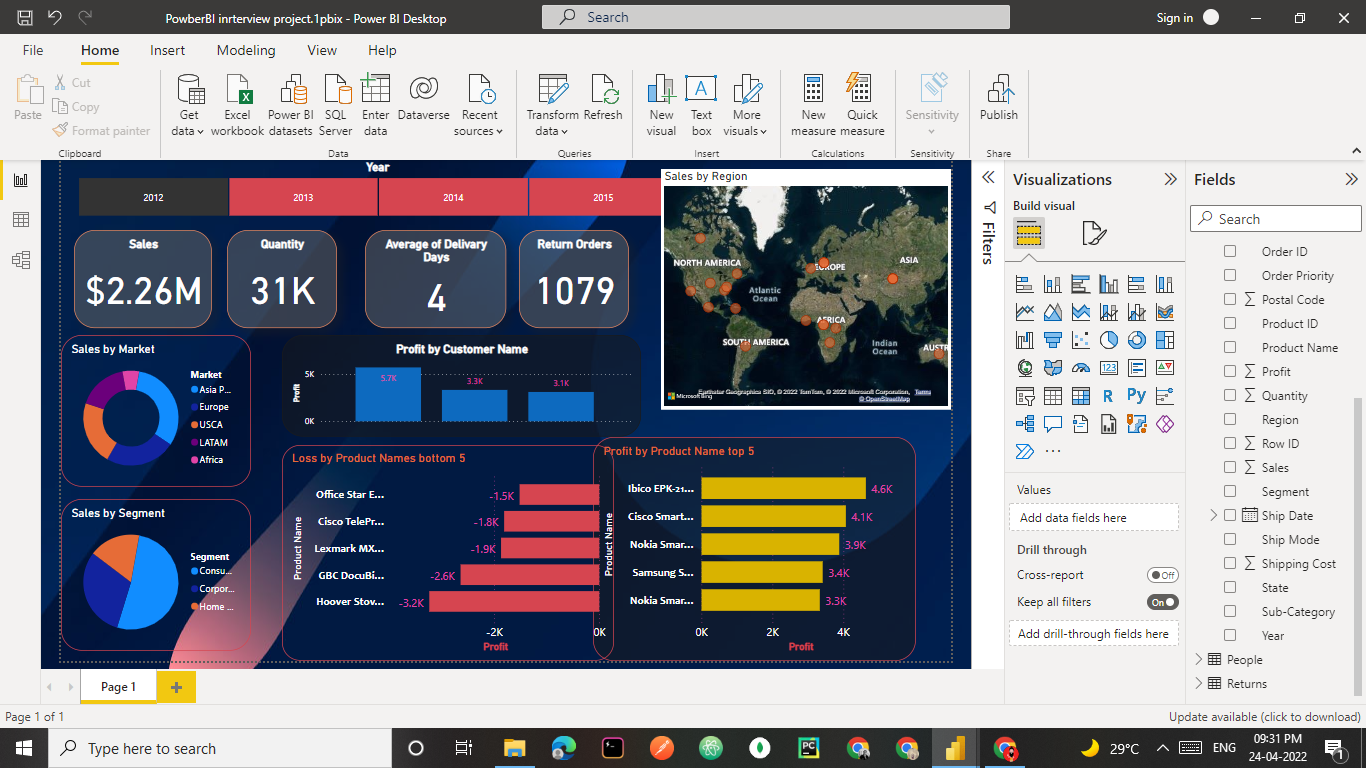

Layout of this report page (visuals, bound fields, positions):
{"tool":"powerbi","page":{"name":"Page 1","canvas":[1280,720],"ordinal":0},"visuals":[{"type":"card","title":"Sales","fields":{"Values":["Sum(Orders.Sales)"]},"box":[18.5,100.8,198.2,141.1],"z":0},{"type":"card","title":"Quantity","fields":{"Values":["Sum(Orders.Quantity)"]},"box":[238.5,100.8,157.9,141.1],"z":1000},{"type":"card","title":"Average of Delivary Days","fields":{"Values":["Avg(Orders.Delivary Days)"]},"box":[436.7,100.8,203.3,141.1],"z":2000},{"type":"slicer","title":"Year","fields":{"Values":["Orders.Year"]},"box":[0,0,862.3,87.7],"z":3000},{"type":"card","title":"Return Orders","fields":{"Values":["Sum(Returns.Return Orders)"]},"box":[658.5,100.8,157.9,141.1],"z":4000},{"type":"map","fields":{"Size":["Sum(Orders.Sales)"],"Category":["Returns.Region"]},"box":[861.7,13.4,418.3,346],"z":5000},{"type":"clusteredBarChart","title":"Profit by Product Name top 5","fields":{"Category":["Orders.Product Name"],"Y":["Sum(Orders.Profit)"]},"box":[764.6,398.1,464.2,321.9],"z":6000},{"type":"clusteredBarChart","title":"Loss by Product Names bottom 5","fields":{"Category":["Orders.Product Name"],"Y":["Sum(Orders.Profit)"]},"box":[317.6,409.6,477.1,310.4],"z":7000},{"type":"pieChart","fields":{"Category":["Orders.Segment"],"Y":["Sum(Orders.Sales)"]},"box":[0,487.2,273.1,218.4],"z":8000},{"type":"donutChart","fields":{"Category":["Orders.Market"],"Y":["Sum(Orders.Sales)"]},"box":[0,251.5,273.1,218.4],"z":9000},{"type":"columnChart","fields":{"Category":["Orders.Customer Name"],"Y":["Sum(Orders.Profit)"]},"box":[317.5,252,515.7,146.1],"z":10000}]}

Visuals, with their boxes on the page's 1280x720 design canvas (x1, y1, x2, y2). These are canvas units, not pixel positions in the 1366x768 screenshot, which may show the page scaled, cropped or inside an application window:
"Sales" card: left=18, top=101, right=217, bottom=242
"Quantity" card: left=238, top=101, right=396, bottom=242
"Average of Delivary Days" card: left=437, top=101, right=640, bottom=242
"Year" slicer: left=0, top=0, right=862, bottom=88
"Return Orders" card: left=658, top=101, right=816, bottom=242
map - Sum(Orders.Sales) x Returns.Region: left=862, top=13, right=1280, bottom=359
"Profit by Product Name top 5" clusteredBarChart: left=765, top=398, right=1229, bottom=720
"Loss by Product Names bottom 5" clusteredBarChart: left=318, top=410, right=795, bottom=720
pieChart - Orders.Segment x Sum(Orders.Sales): left=0, top=487, right=273, bottom=706
donutChart - Orders.Market x Sum(Orders.Sales): left=0, top=252, right=273, bottom=470
columnChart - Orders.Customer Name x Sum(Orders.Profit): left=318, top=252, right=833, bottom=398
